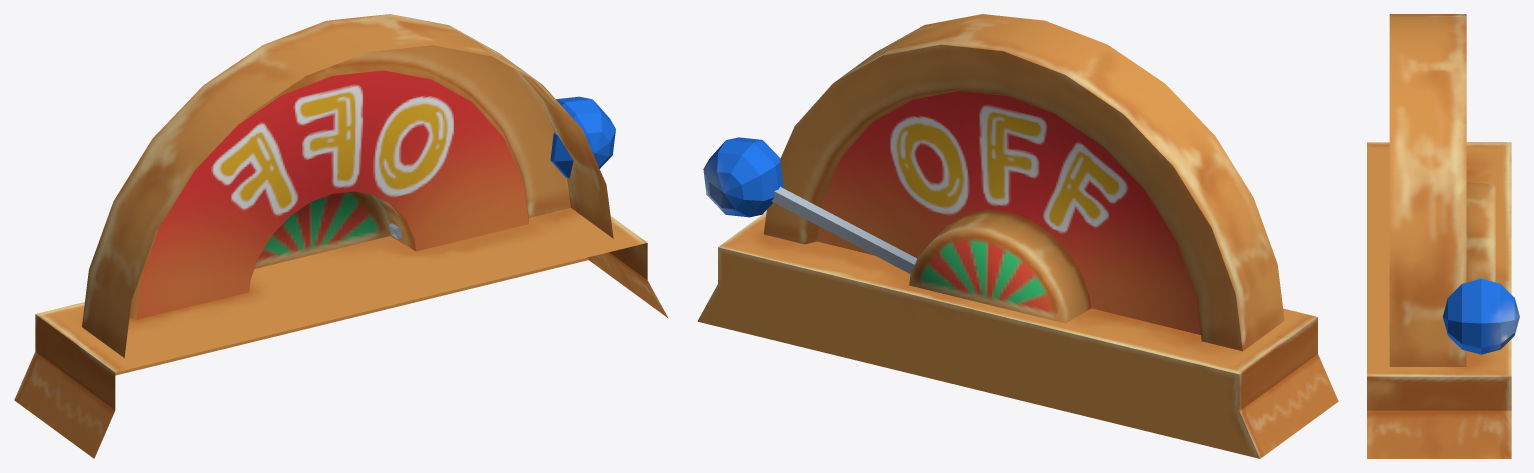
Rendered from Switch_Off.fbx.
3 renders of one model, left to right at view 1: azimuth 30°, elevation 25°; view 2: azimuth 150°, elevation 25°; view 3: azimuth 270°, elevation 25°, orthographic. The views are drawn at different scales.
Parts seen in each view (by area): view 1: switch_off; view 2: switch_off; view 3: switch_off.
Boxes of the visible parts, box(x1,y1,x2,y2) form: switch_off: box(14, 14, 668, 458); switch_off: box(697, 14, 1338, 458); switch_off: box(1367, 14, 1519, 458).
Bounding box in the file's own units: 0.5105 × 0.2761 × 0.1294.
1 material, 1 textured.
